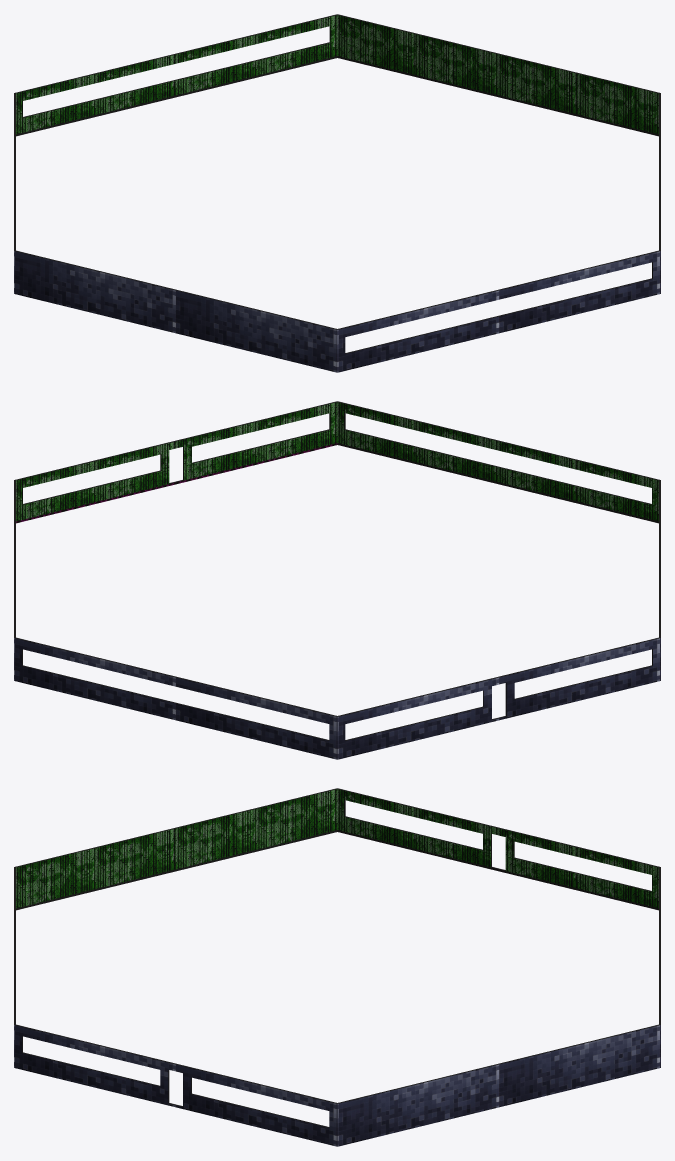
3 views of the same model, one above another, from view 1: azimuth 30°, elevation 25°; view 2: azimuth 150°, elevation 25°; view 3: azimuth 270°, elevation 25° (orthographic).
Visible parts, largest first — view 1: Mesh2 Group2 ss1 Model, Mesh1 Group1 ss1 Model, Mesh7 ss1 Model, Mesh3 ss1 Model; view 2: Mesh2 Group2 ss1 Model, Mesh1 Group1 ss1 Model, Mesh7 ss1 Model, Mesh3 ss1 Model; view 3: Mesh2 Group2 ss1 Model, Mesh1 Group1 ss1 Model, Mesh7 ss1 Model, Mesh3 ss1 Model.
Part boxes in pixels (box(x1,y1,x2,y2)): Mesh2 Group2 ss1 Model: box(14, 251, 660, 372); Mesh1 Group1 ss1 Model: box(16, 15, 658, 134); Mesh7 ss1 Model: box(14, 14, 660, 329); Mesh3 ss1 Model: box(16, 56, 658, 136); Mesh2 Group2 ss1 Model: box(14, 638, 660, 759); Mesh1 Group1 ss1 Model: box(16, 402, 658, 521); Mesh7 ss1 Model: box(14, 401, 660, 716); Mesh3 ss1 Model: box(16, 443, 658, 719); Mesh2 Group2 ss1 Model: box(14, 1025, 660, 1146); Mesh1 Group1 ss1 Model: box(16, 789, 658, 908); Mesh7 ss1 Model: box(14, 788, 660, 1103); Mesh3 ss1 Model: box(16, 830, 658, 1106).
Size of the model in its own units: 40.23 by 2.55 by 34.84.
4 materials, 3 textured.
